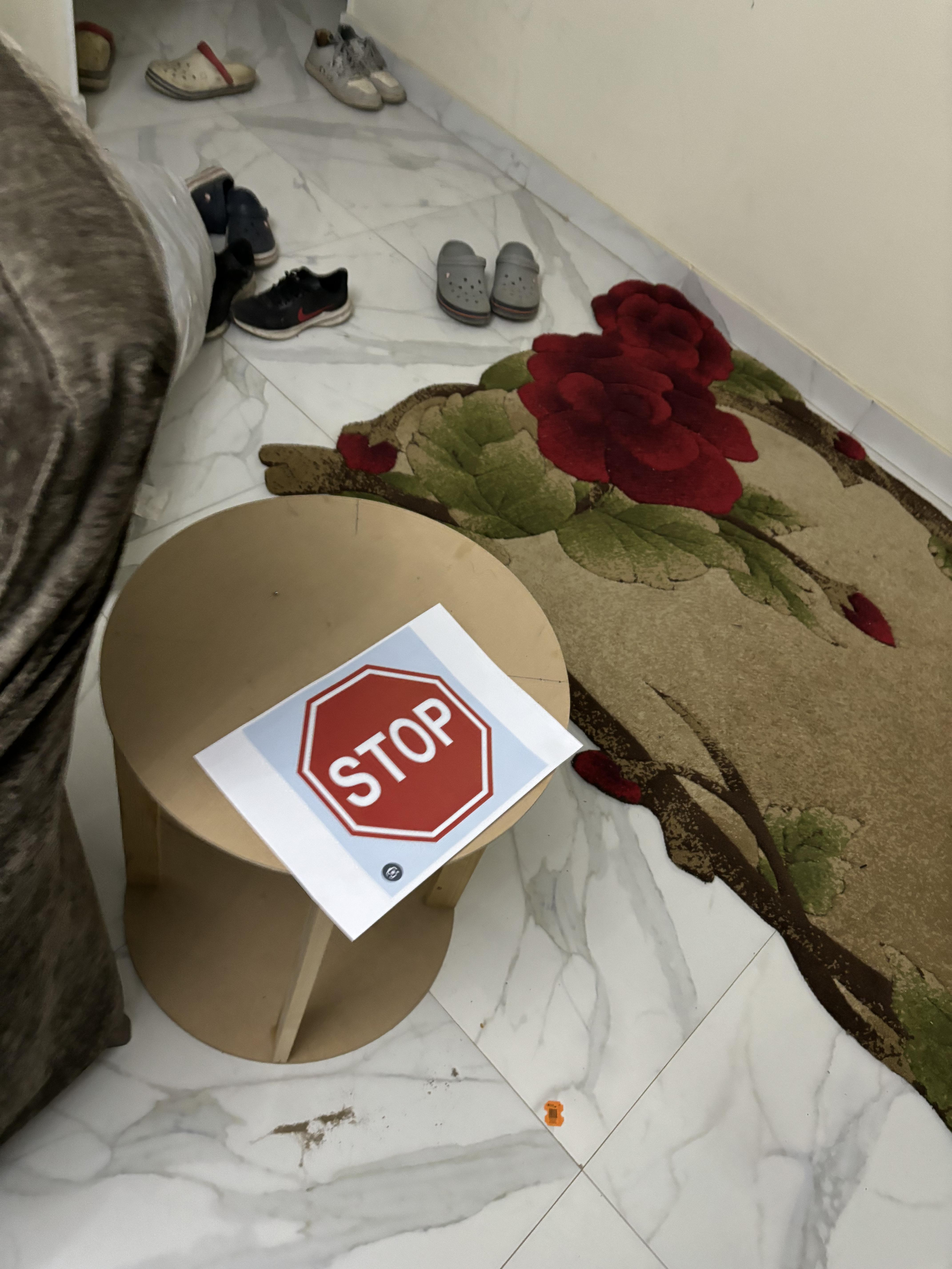Stop: (292, 651, 500, 853)
